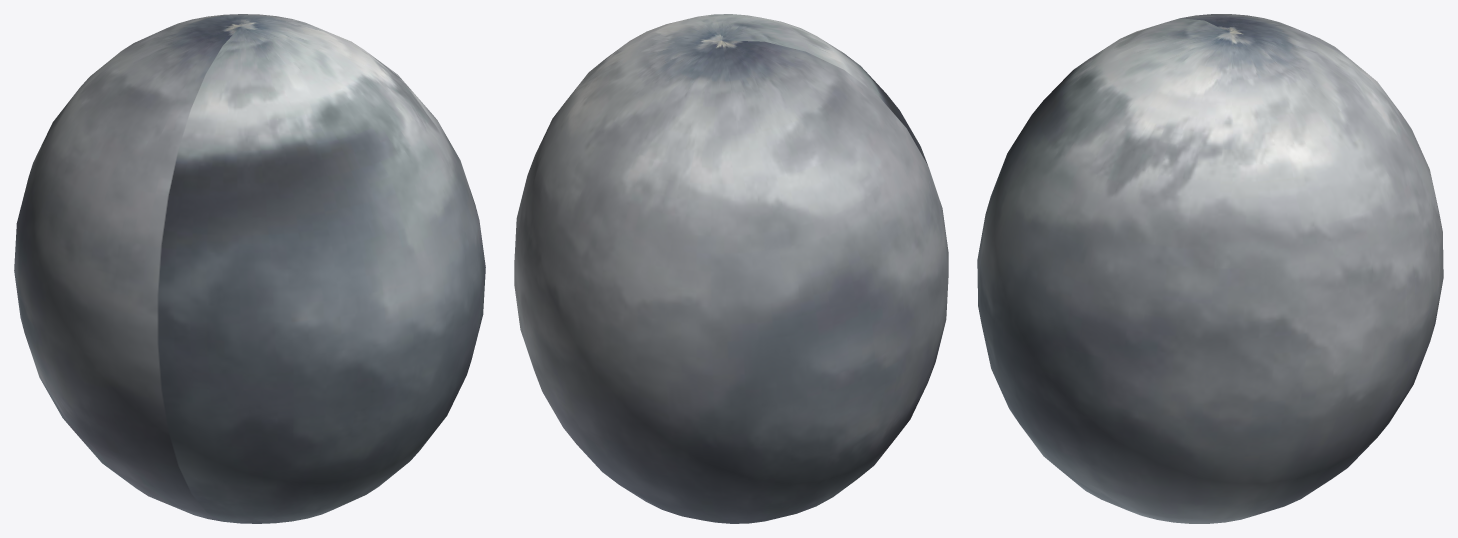
Rendered from BattleInTheSky.glb.
3 views of the same model, side by side, from view 1: azimuth 30°, elevation 25°; view 2: azimuth 150°, elevation 25°; view 3: azimuth 270°, elevation 25° (orthographic).
Parts seen in each view (by area): view 1: Sphere; view 2: Sphere; view 3: Sphere.
Part boxes in pixels (x1,y1,x2,y2): Sphere: [14, 14, 485, 523]; Sphere: [514, 14, 948, 523]; Sphere: [977, 14, 1443, 523].
Size of the model in its own units: 173 by 200 by 179.
3 materials, 3 textured.
